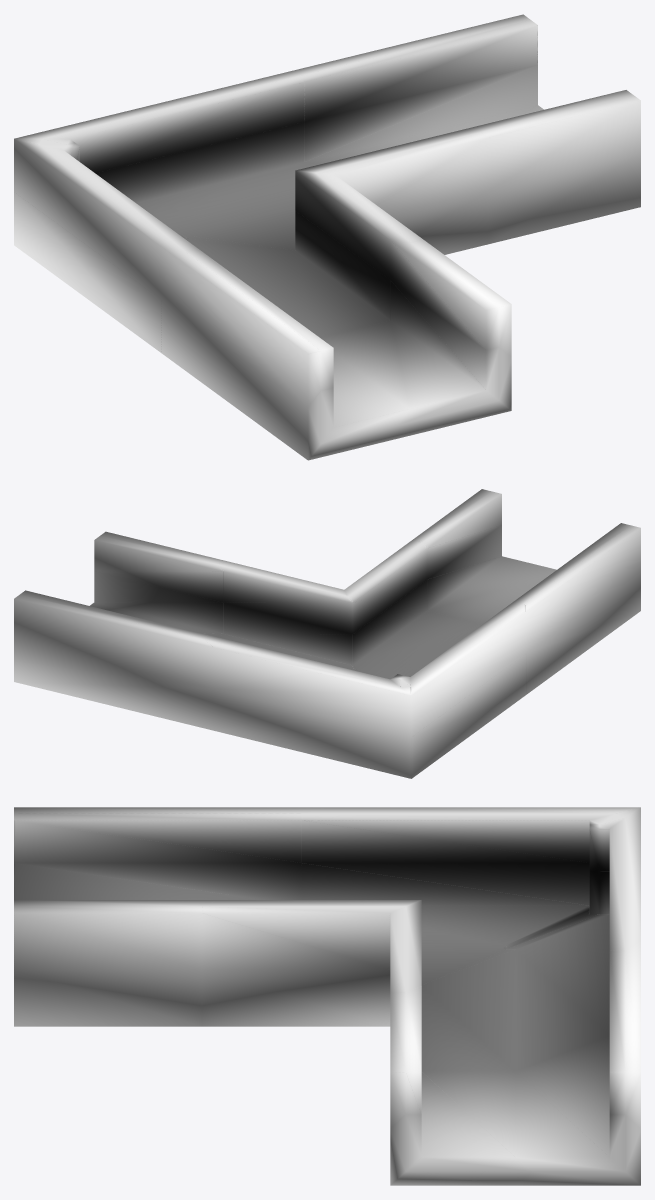
3 views of the same model, one above another, from view 1: azimuth 30°, elevation 25°; view 2: azimuth 150°, elevation 25°; view 3: azimuth 270°, elevation 25° (orthographic). The views are drawn at different scales.
Parts seen in each view (by area): view 1: defaultobject; view 2: defaultobject; view 3: defaultobject.
Part boxes in pixels (left/top/right/bottom): defaultobject: left=14, top=14, right=640, bottom=460; defaultobject: left=14, top=489, right=640, bottom=778; defaultobject: left=14, top=807, right=640, bottom=1185.
Bounding box in the file's own units: 0.625 × 0.125 × 0.625.
1 material, 1 textured.
